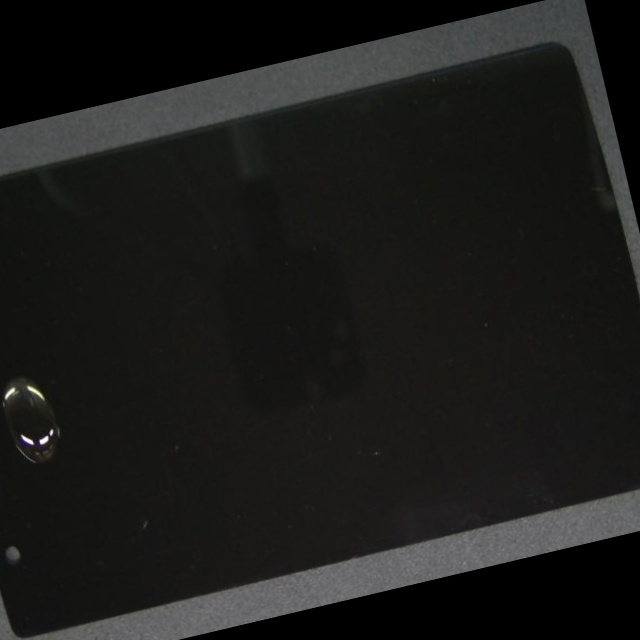oil: (0, 289, 130, 548)
